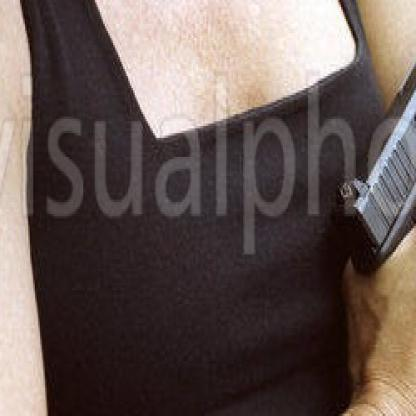gun: (332, 0, 415, 286)
